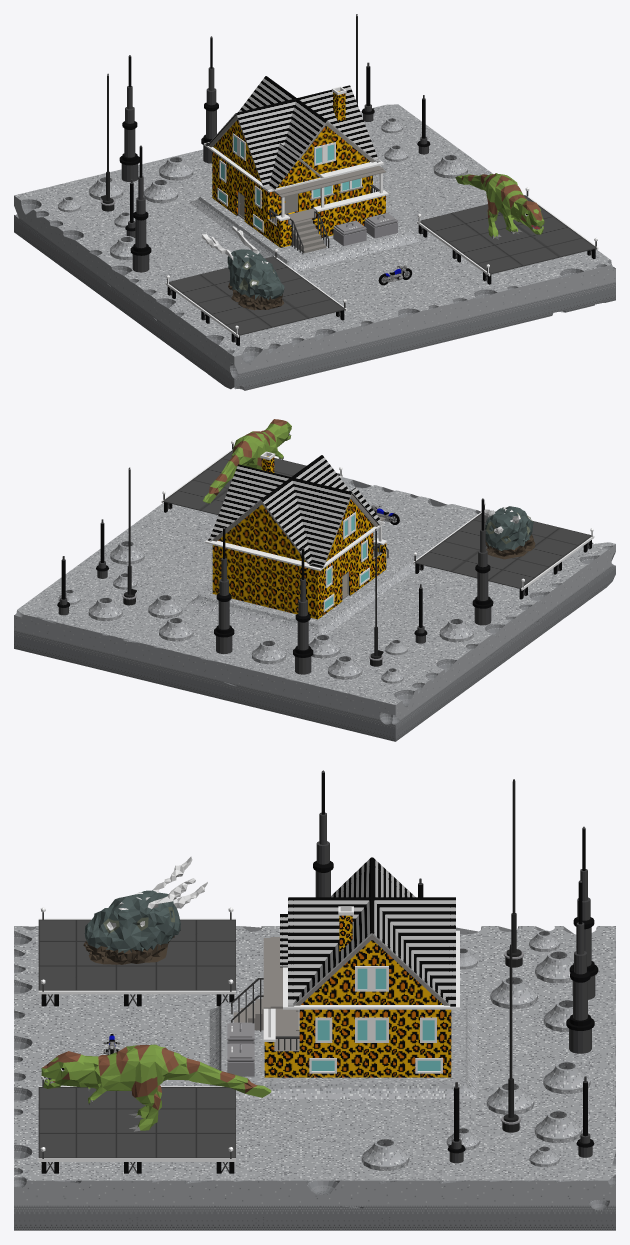
3 views of the same model, one above another, from view 1: azimuth 30°, elevation 25°; view 2: azimuth 150°, elevation 25°; view 3: azimuth 270°, elevation 25° (orthographic). The views are drawn at different scales.
Parts seen in each view (by area): view 1: Cube.027, Cube.637, Cube.026, Cube.025, Cube.028, OBJRANDOM_METEORITE, ANIMAL_TREX, Cylinder.021, Cylinder.020, Cylinder.017, Cube.029, Cube.030 (+4 smaller); view 2: Cube.027, Cube.637, Cube.025, Cube.028, Cube.026, ANIMAL_TREX, OBJRANDOM_METEORITE, Cylinder.021, Cylinder.020, Cylinder.017, Cylinder.030, Cylinder.028 (+8 smaller); view 3: Cube.027, Cube.637, Cube.026, Cube.025, Cube.028, ANIMAL_TREX, OBJRANDOM_METEORITE, Cylinder.017, Cylinder.020, Cylinder.021, Cylinder.033, Cylinder.031 (+10 smaller).
Part boxes in pixels (x1=…): Cube.027: x1=14, y1=104, x2=615, y2=390; Cube.637: x1=203, y1=76, x2=388, y2=254; Cube.026: x1=417, y1=187, x2=598, y2=284; Cube.025: x1=165, y1=249, x2=347, y2=345; Cube.028: x1=190, y1=193, x2=420, y2=271; OBJRANDOM_METEORITE: x1=201, y1=226, x2=284, y2=310; ANIMAL_TREX: x1=455, y1=173, x2=544, y2=239; Cylinder.021: x1=130, y1=145, x2=151, y2=272; Cylinder.020: x1=119, y1=55, x2=139, y2=181; Cylinder.017: x1=201, y1=36, x2=218, y2=163; Cube.029: x1=333, y1=220, x2=366, y2=245; Cube.030: x1=364, y1=213, x2=397, y2=238; Cube.027: x1=14, y1=477, x2=615, y2=741; Cube.637: x1=205, y1=451, x2=388, y2=619; Cube.025: x1=413, y1=502, x2=594, y2=599; Cube.028: x1=188, y1=554, x2=415, y2=635; Cube.026: x1=161, y1=440, x2=342, y2=515; ANIMAL_TREX: x1=203, y1=419, x2=291, y2=503; OBJRANDOM_METEORITE: x1=484, y1=506, x2=535, y2=559; Cylinder.021: x1=472, y1=498, x2=493, y2=625; Cylinder.020: x1=293, y1=547, x2=313, y2=674; Cylinder.017: x1=214, y1=527, x2=234, y2=653; Cylinder.030: x1=148, y1=594, x2=182, y2=618; Cylinder.028: x1=328, y1=655, x2=362, y2=679; Cube.027: x1=14, y1=926, x2=615, y2=1230; Cube.637: x1=231, y1=857, x2=459, y2=1077; Cube.026: x1=38, y1=1075, x2=235, y2=1173; Cube.025: x1=38, y1=907, x2=235, y2=1006; Cube.028: x1=209, y1=1002, x2=477, y2=1098; ANIMAL_TREX: x1=41, y1=1044, x2=271, y2=1131; OBJRANDOM_METEORITE: x1=83, y1=856, x2=207, y2=964; Cylinder.017: x1=566, y1=880, x2=594, y2=1053; Cylinder.020: x1=569, y1=826, x2=598, y2=999; Cylinder.021: x1=313, y1=770, x2=333, y2=897; Cylinder.033: x1=361, y1=1138, x2=409, y2=1170; Cylinder.031: x1=534, y1=1110, x2=582, y2=1142.
Bounding box in the file's own units: 4000 × 1807 × 4000.
Materials: 33 (5 with a texture image).
